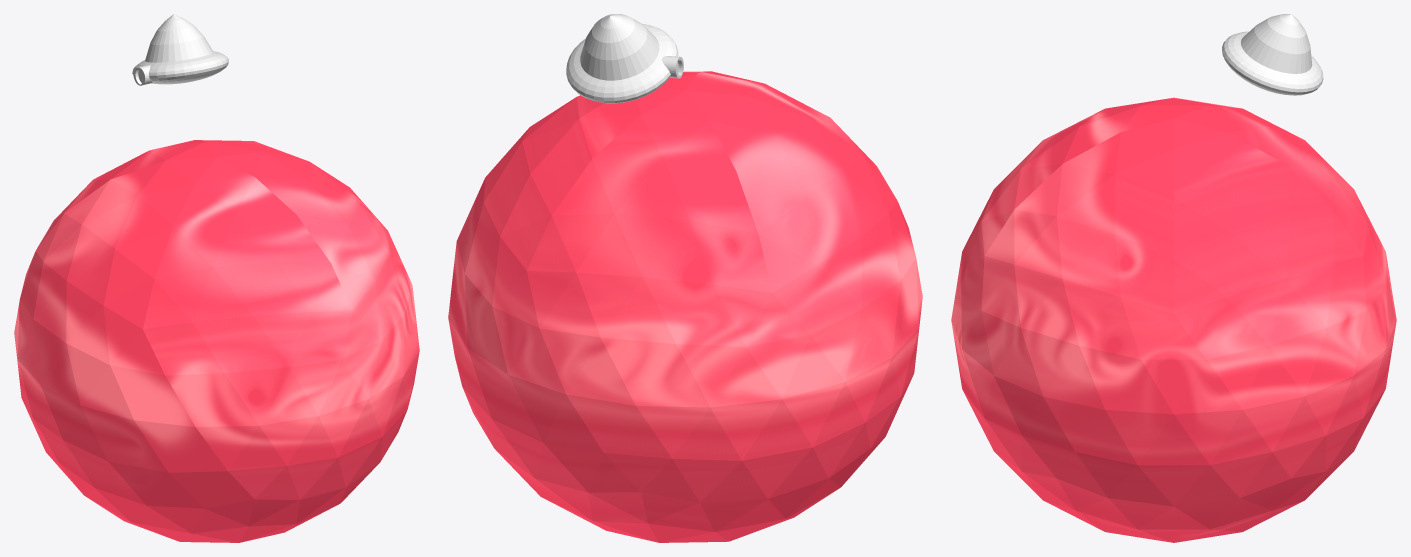
File: lowpoly_marz.glb
The picture shows the model from 3 angles, left to right: view 1: azimuth 30°, elevation 25°; view 2: azimuth 150°, elevation 25°; view 3: azimuth 270°, elevation 25°; orthographic projection. The views are drawn at different scales.
Visible parts, largest first — view 1: Icosphere, Sphere; view 2: Icosphere, Sphere; view 3: Icosphere, Sphere.
Boxes of the visible parts, <box> form: Icosphere: <box>14,140,419,542</box>; Sphere: <box>132,14,228,85</box>; Icosphere: <box>448,71,922,542</box>; Sphere: <box>566,14,683,103</box>; Icosphere: <box>951,97,1396,542</box>; Sphere: <box>1222,14,1323,95</box>.
Size of the model in its own units: 2 by 2.55 by 2.
Materials: 2 (1 with a texture image).
